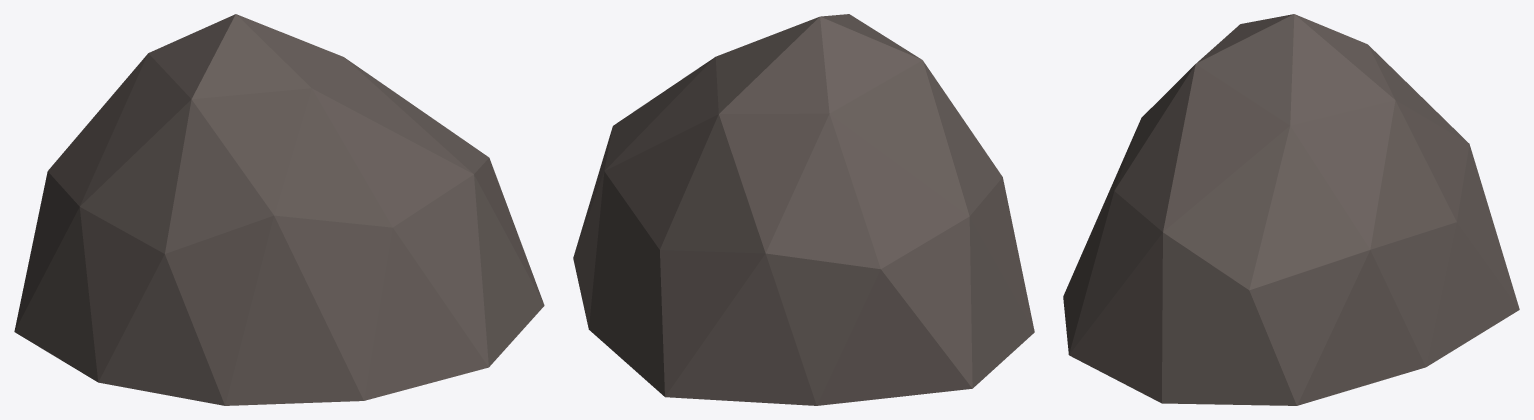
Rendered from Stone(4).fbx.
3 renders of one model, left to right at view 1: azimuth 30°, elevation 25°; view 2: azimuth 150°, elevation 25°; view 3: azimuth 270°, elevation 25°, orthographic. The views are drawn at different scales.
Visible parts, largest first — view 1: Stone(4); view 2: Stone(4); view 3: Stone(4).
Part boxes in pixels (box(x1,y1,x2,y2)): Stone(4): box(14, 14, 544, 405); Stone(4): box(573, 14, 1034, 405); Stone(4): box(1063, 14, 1519, 405).
Bounding box in the file's own units: 1.04 × 0.6873 × 1.02.
